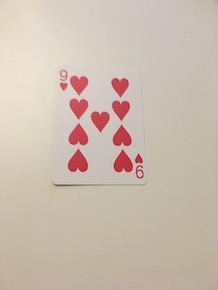NineOfHearts: (49, 61, 152, 190)
